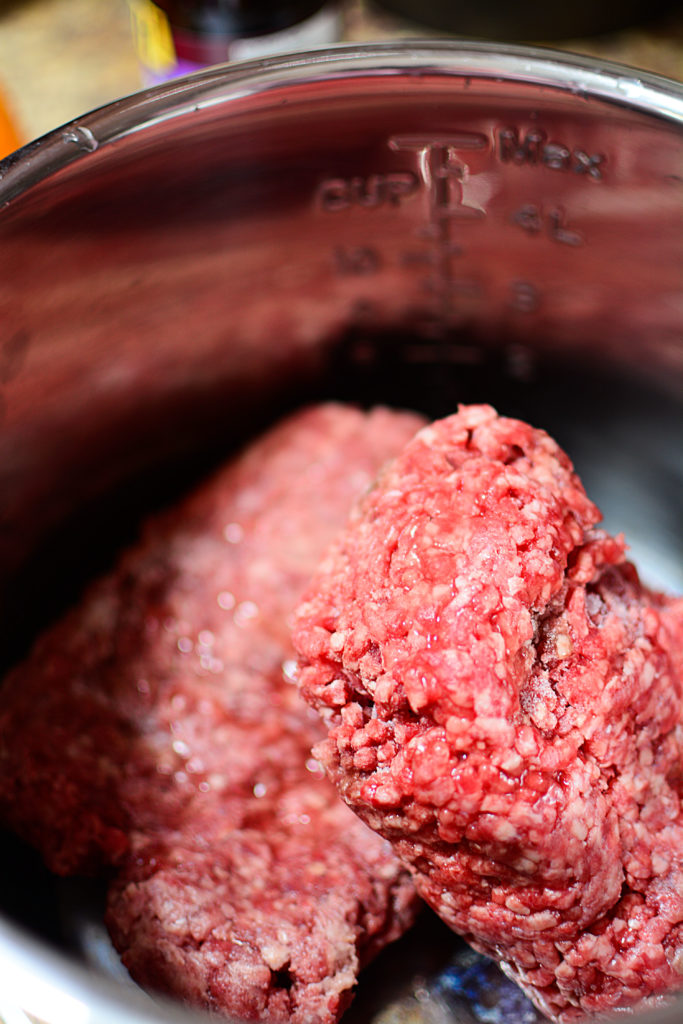ground_beef: (23, 553, 473, 999), (333, 436, 683, 892)
